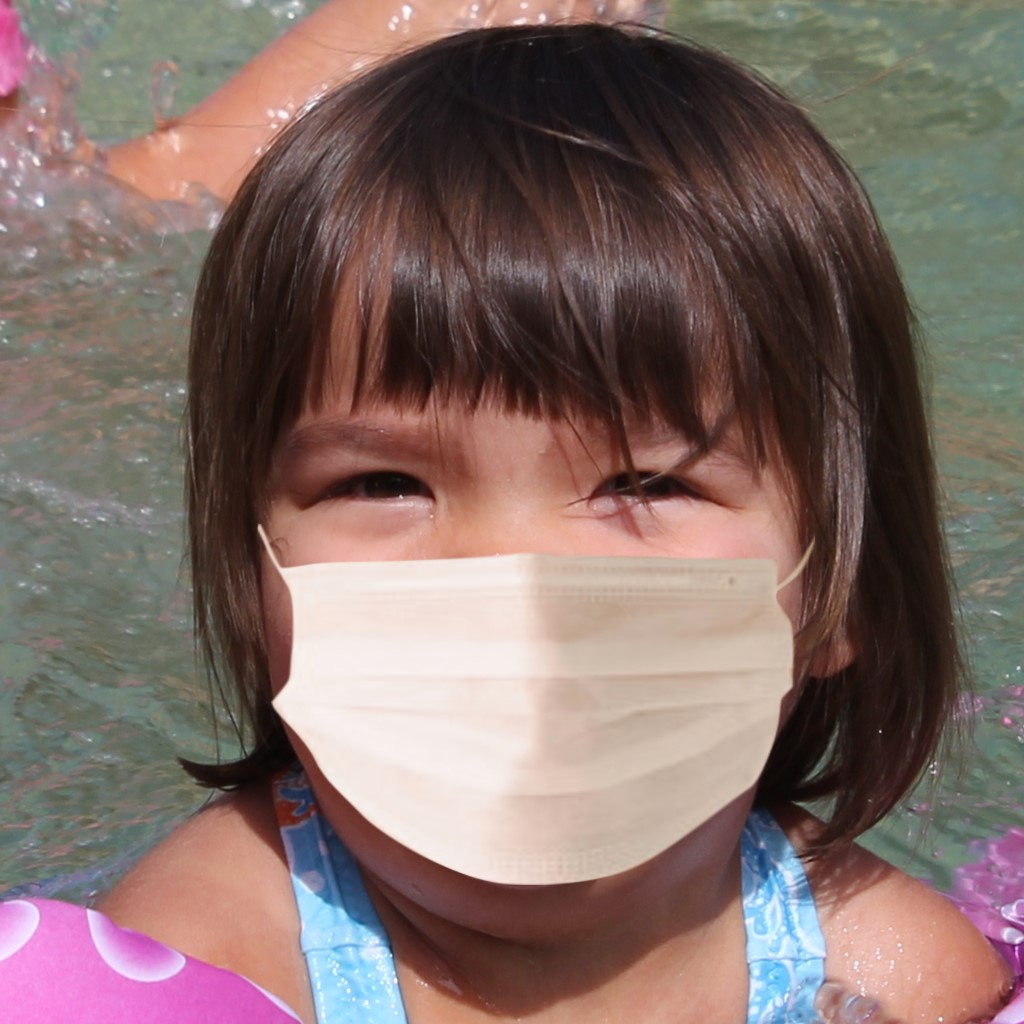con_mascara: (213, 113, 852, 918)
